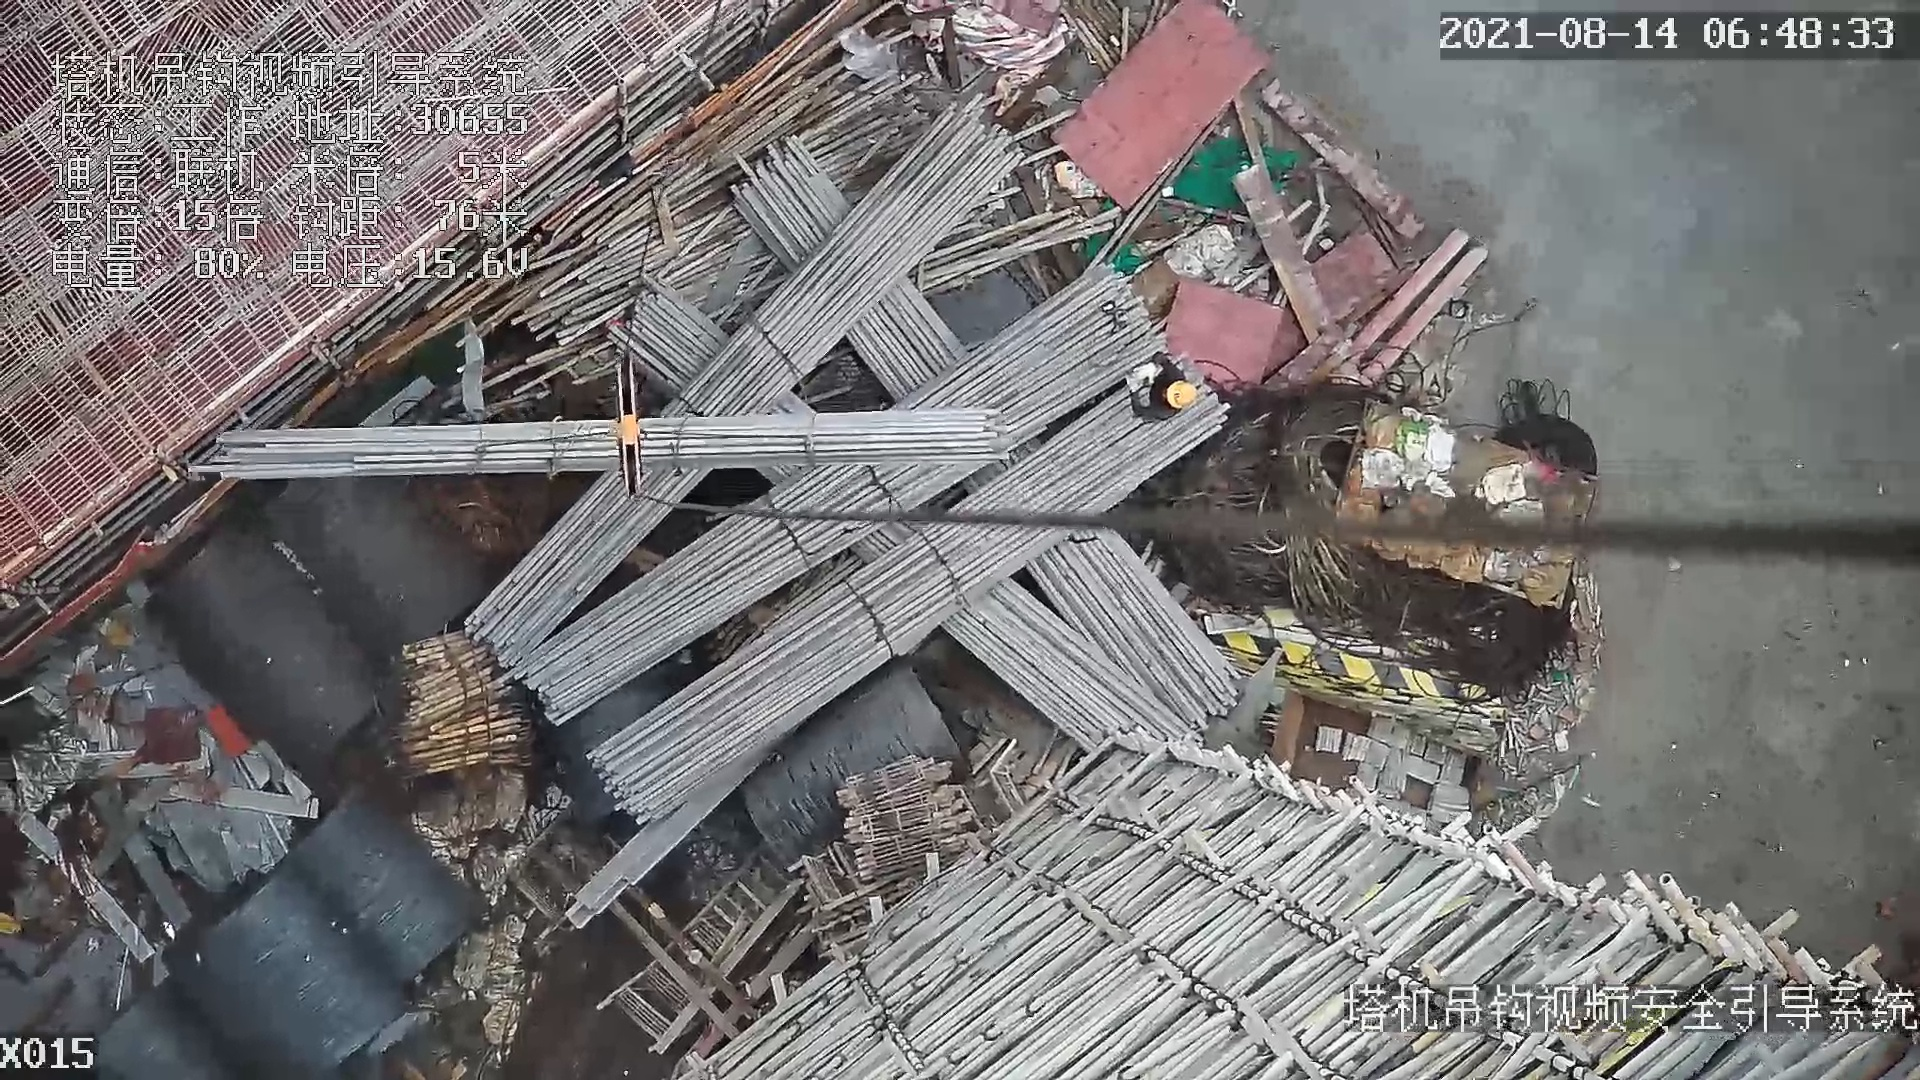board: (1051, 1, 1275, 217)
helmet: (1170, 382, 1208, 415)
hook: (606, 356, 646, 499)
person: (1123, 351, 1199, 432)
scaffold: (393, 631, 529, 769)
